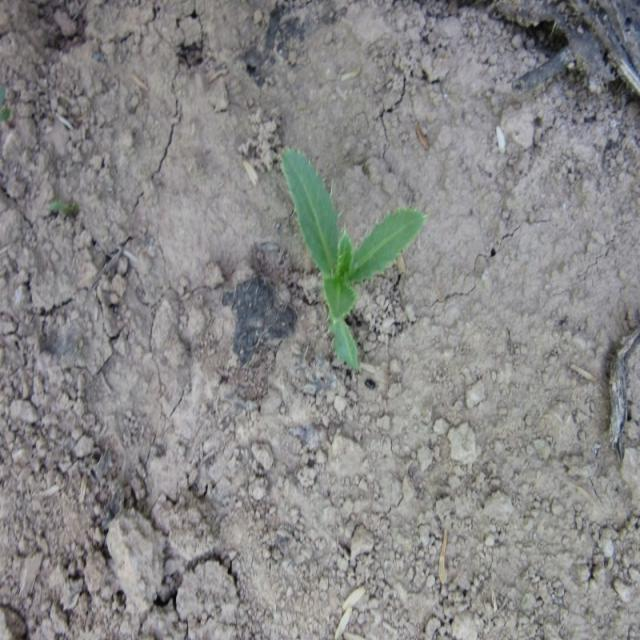cs: (274, 141, 426, 375)
